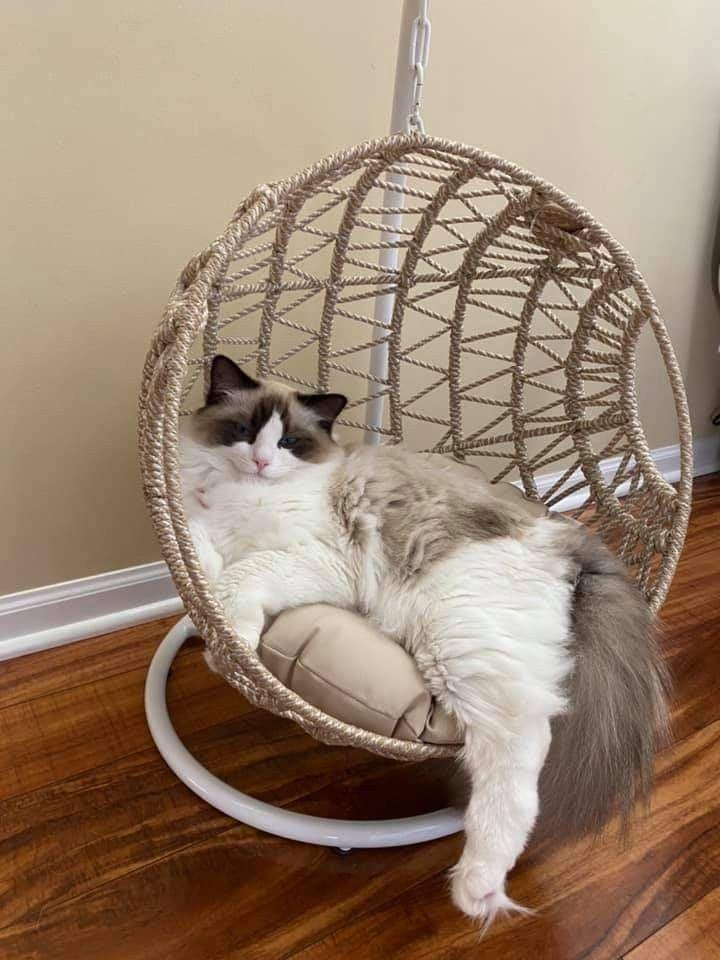kedo: (178, 353, 667, 922)
